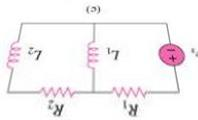inductor: (81, 35, 102, 68), (3, 39, 24, 70)
